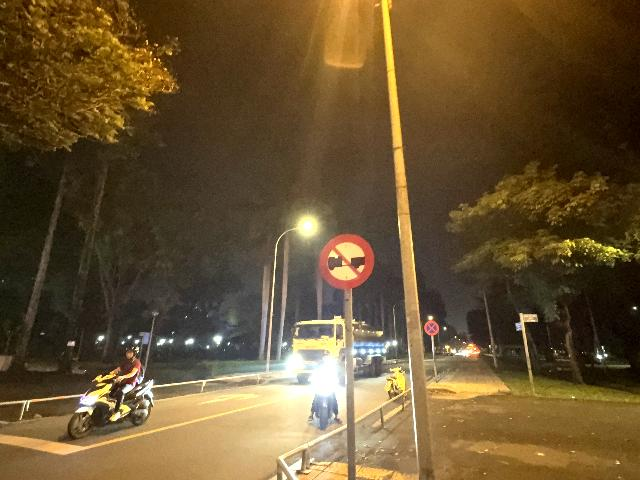cam-xe-somi-romooc: (319, 234, 375, 289)
